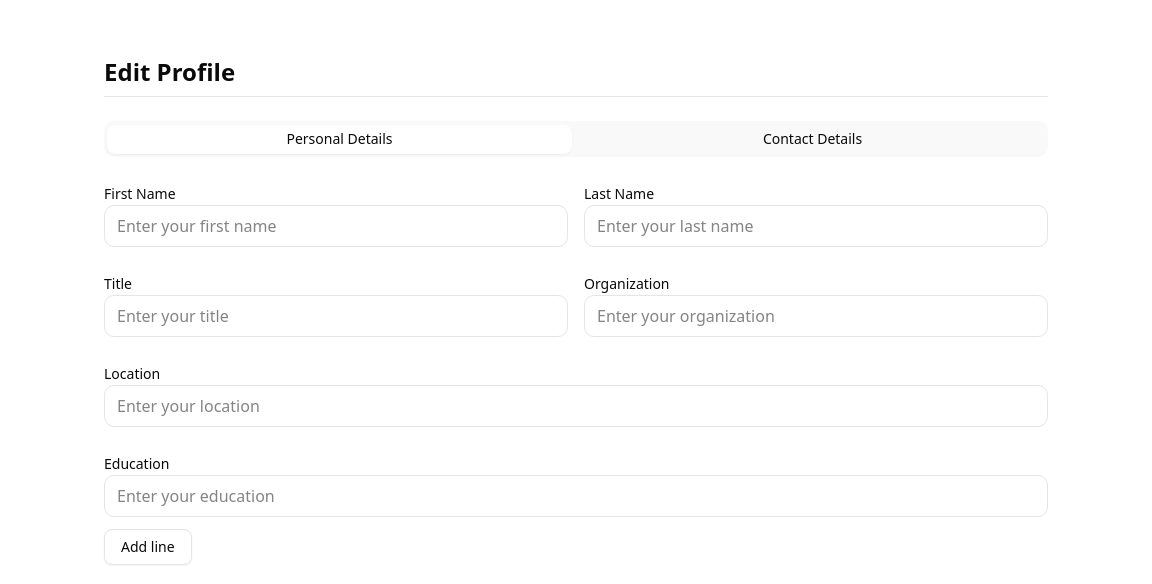
Test case: EditUserProfile Component › Education Management › removes education field when remove button is clicked
Step 1. Click the button "Add line" → (148, 547), box [104,529,192,565]
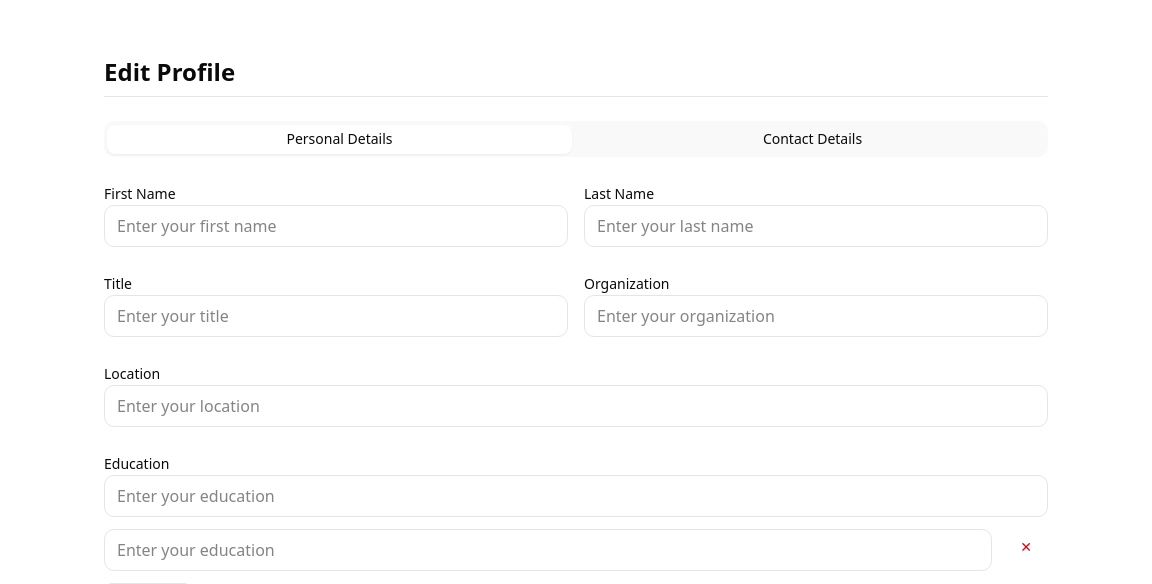
Now the number of fields with placeholder "Enter your education" is 2, box [104,475,1048,517]; [104,529,992,571]
Step 2. Click the button "✕" → (1026, 547), box [1004,529,1048,565]
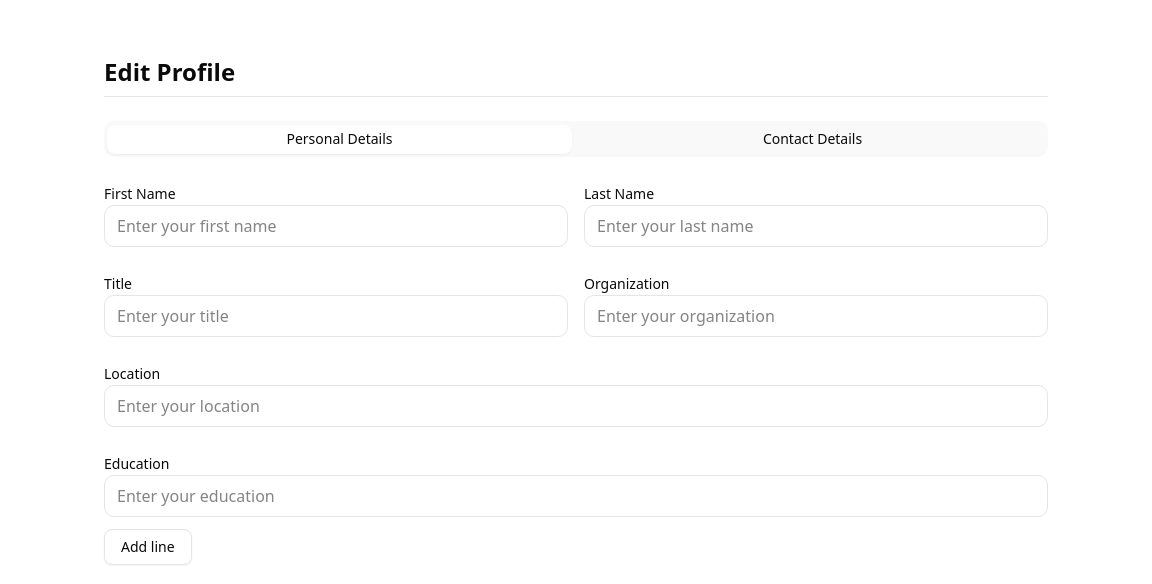
Now the number of fields with placeholder "Enter your education" is 1, box [104,475,1048,517]
